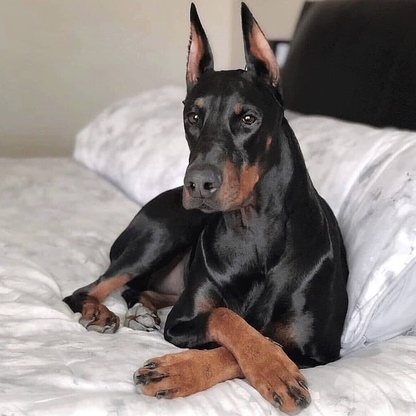doberman: (71, 1, 359, 416)
